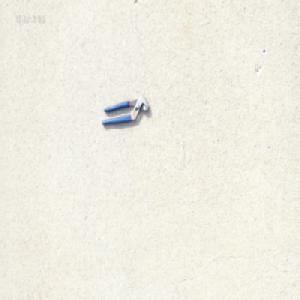Pliers: (101, 95, 150, 128)
